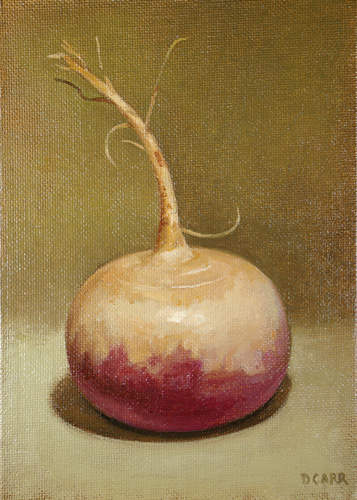turnip: (40, 33, 290, 436)
